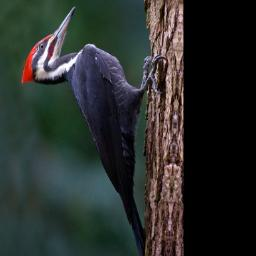Woodpecker: (11, 2, 170, 256)
